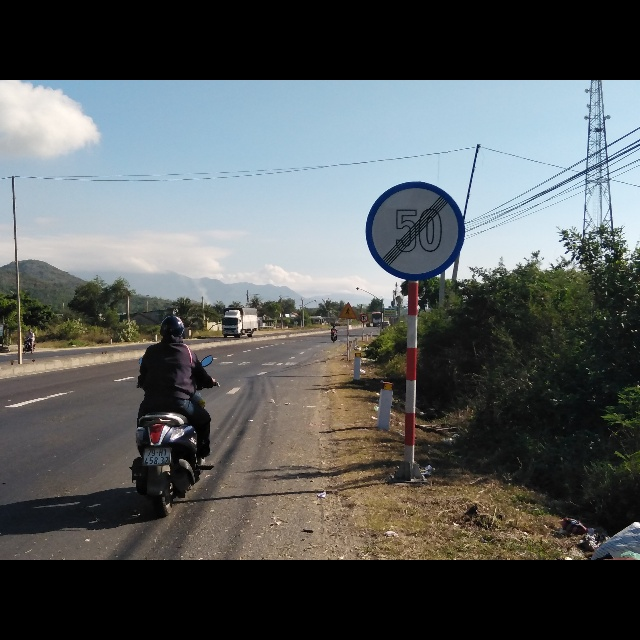Hết hạn chế tốc độ tối đa 50km/h: (362, 179, 465, 283)
